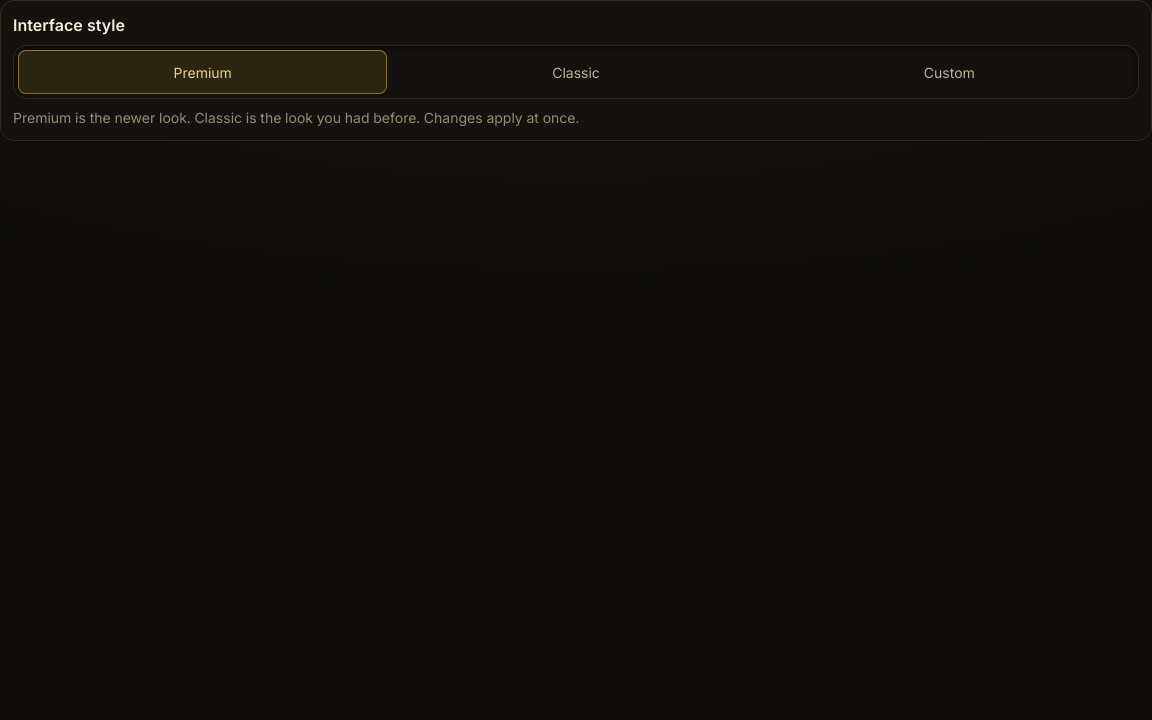
Settings -> Appearance -> Interface style › renders Premium (rows hidden by Tidy) and ten switches under Custom; Classic flips all; one switch shows Custom; applies instantly
Click the radio button labelled "Custom": (949, 72) [765,50,1134,94]
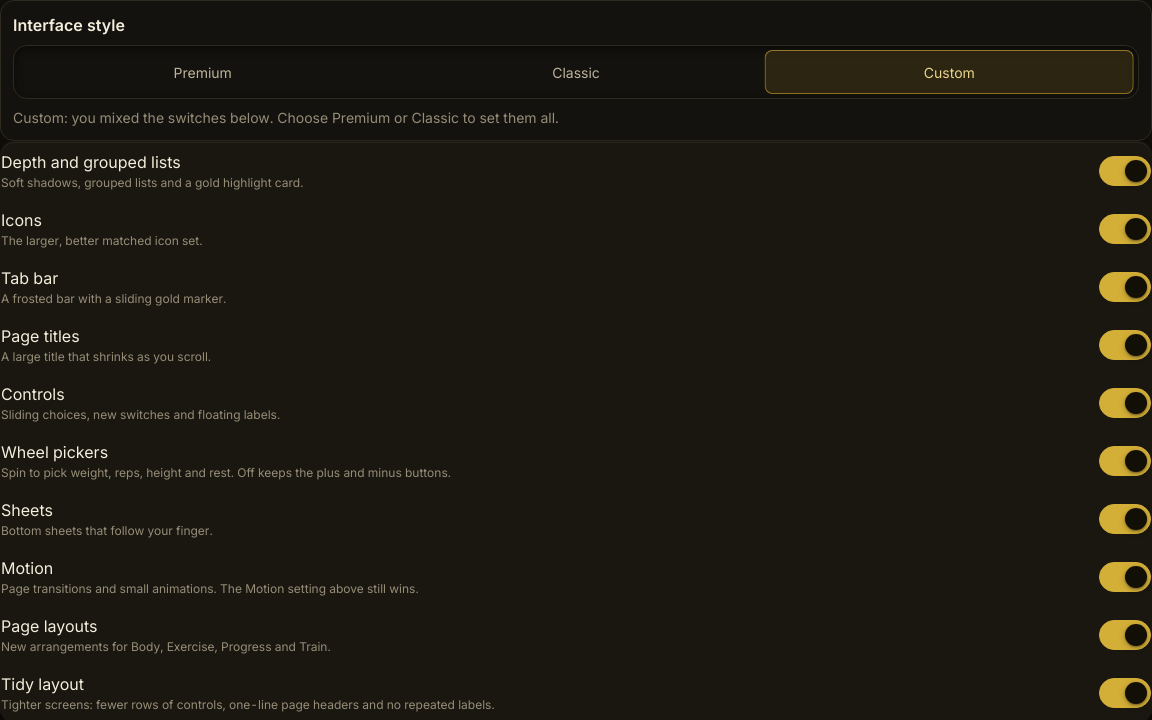
Now the radio button labelled "Custom" is checked, box [765,50,1134,94]
Click the radio button labelled "Classic": (576, 72) [391,50,761,94]
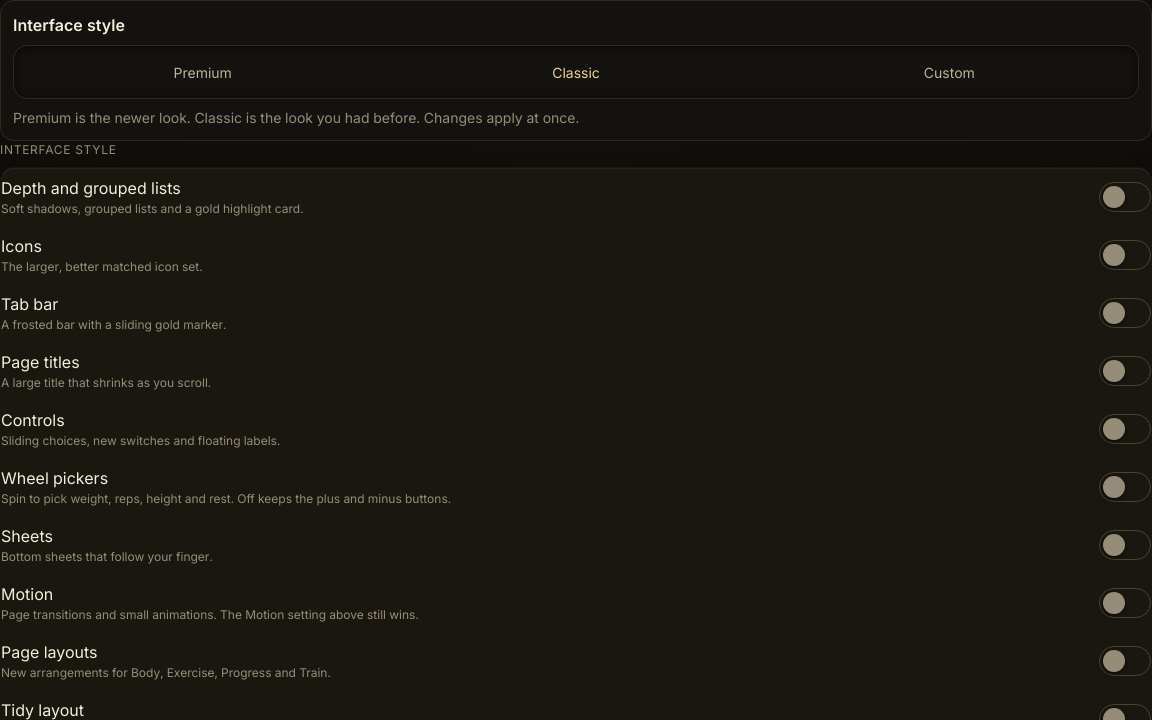
Now the radio button labelled "Classic" is checked, box [391,50,761,94]
Click the switch that starts with "Wheel pickers": (55, 478) [1,458,1151,516]
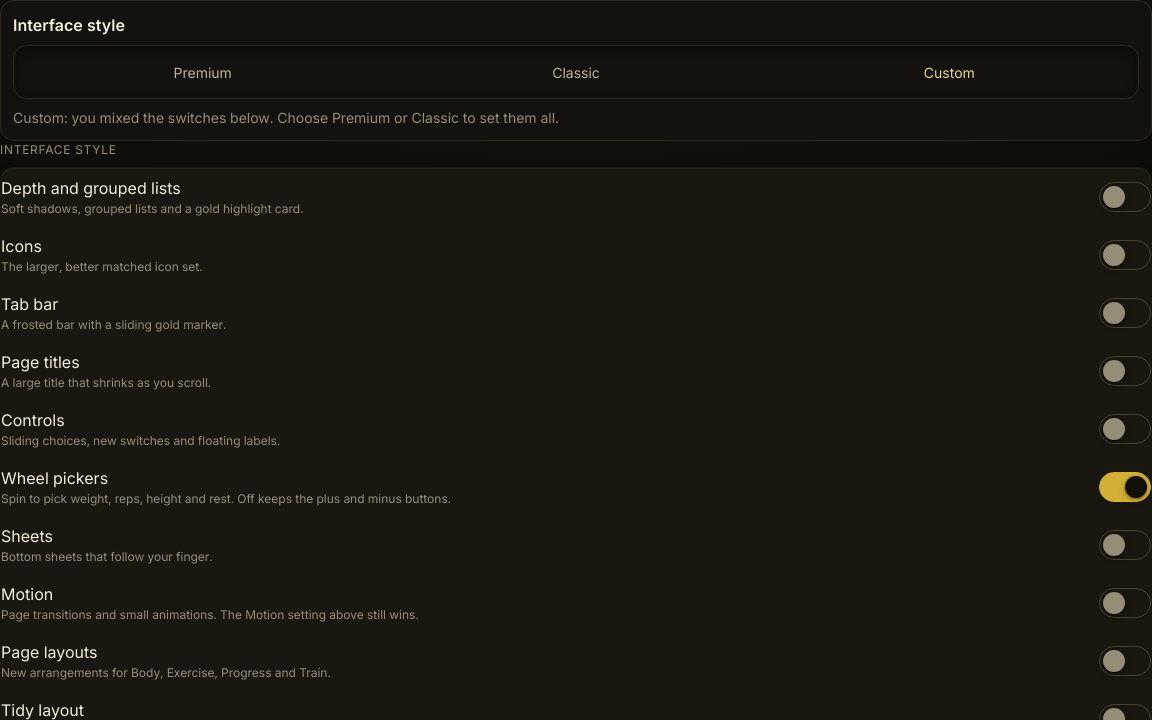
Now the radio button labelled "Custom" is checked, box [765,50,1134,94]
